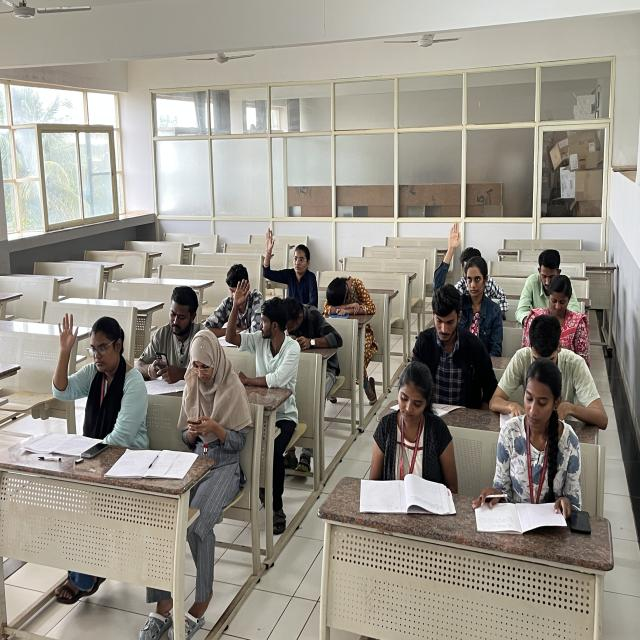Hand Rising: (46, 310, 154, 452), (223, 278, 300, 399), (439, 218, 503, 321), (262, 224, 320, 303)
Reading: (368, 362, 453, 512), (419, 283, 490, 425)
Sleeping: (281, 290, 344, 354), (320, 266, 378, 325)
Using Phone: (170, 328, 255, 464), (136, 284, 199, 390)
Writing: (479, 360, 586, 533)
